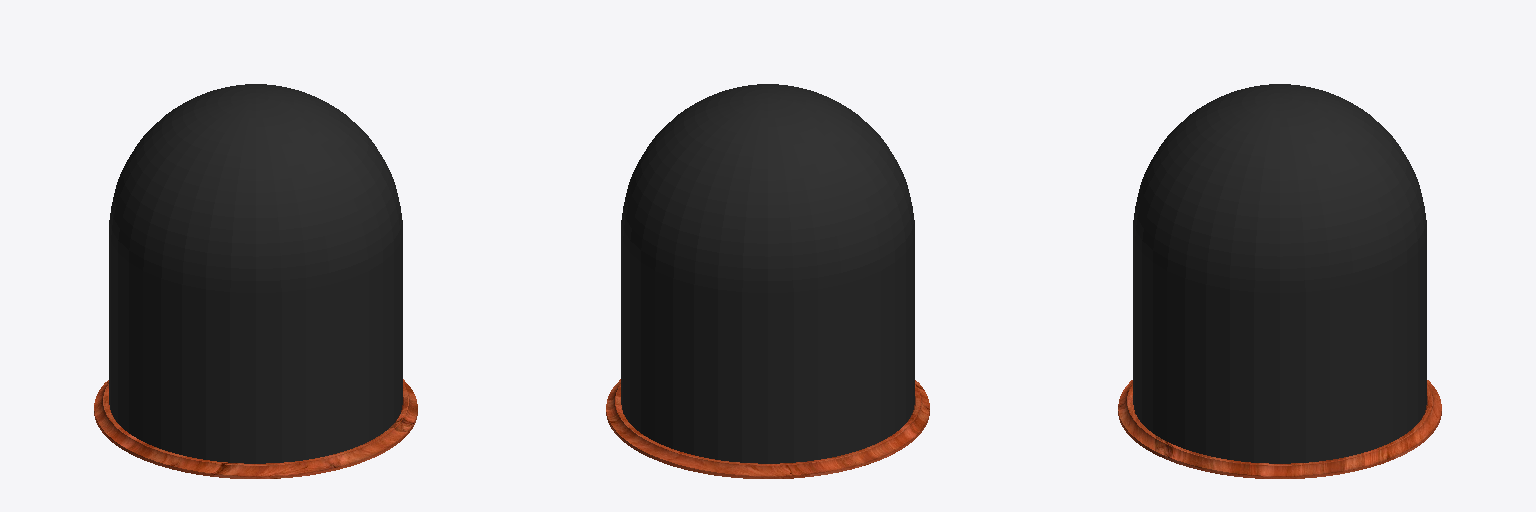
3 views of the same model, side by side, from view 1: azimuth 30°, elevation 25°; view 2: azimuth 150°, elevation 25°; view 3: azimuth 270°, elevation 25° (orthographic).
Visible parts, largest first — view 1: Capsule002, Circle001; view 2: Capsule002, Circle001; view 3: Capsule002, Circle001.
Part boxes in pixels (left/top/right/bottom): Capsule002: left=109, top=84, right=402, bottom=463; Circle001: left=94, top=379, right=417, bottom=478; Capsule002: left=621, top=84, right=914, bottom=463; Circle001: left=606, top=379, right=929, bottom=478; Capsule002: left=1133, top=84, right=1426, bottom=463; Circle001: left=1118, top=380, right=1441, bottom=478.
Bounding box in the file's own units: 14.17 × 15.26 × 14.17.
Materials: 4 (2 with a texture image).